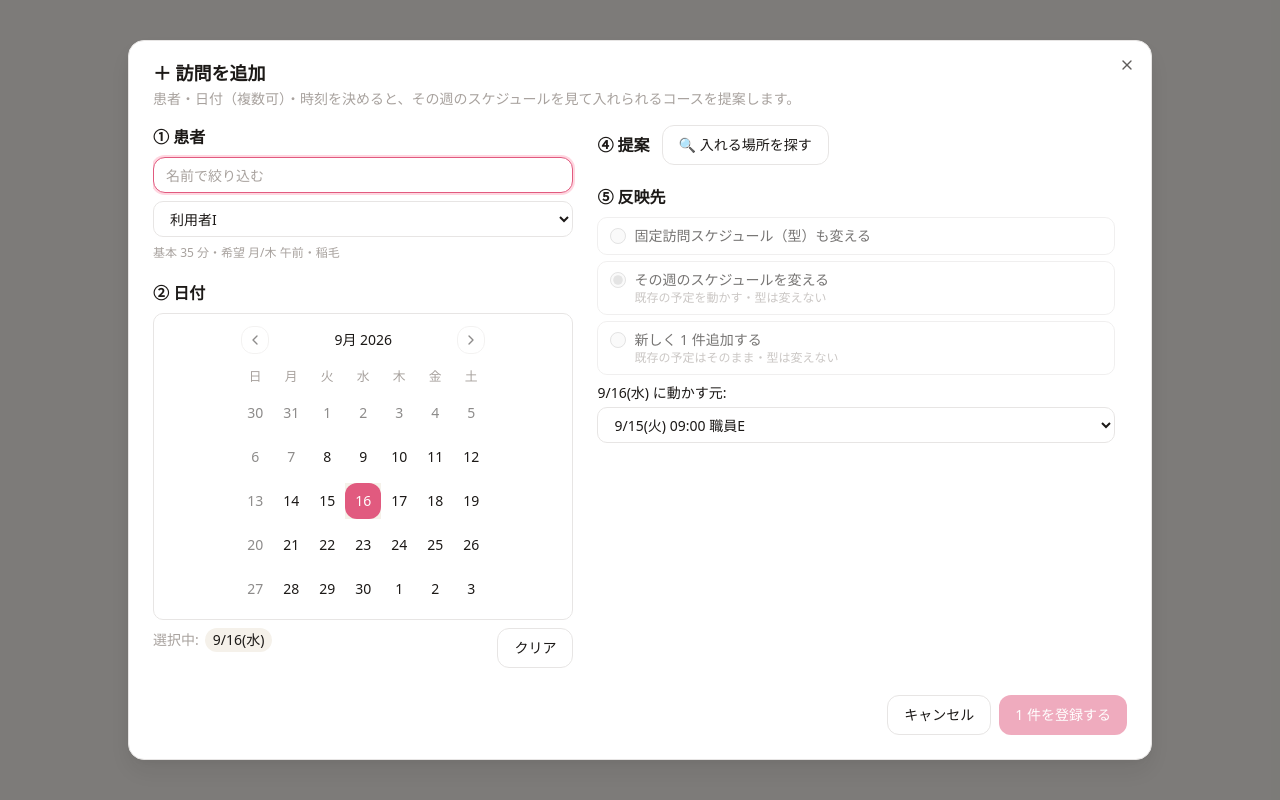
Test: AddVisitAnywhereDialog › H1 押した予定が動かせない (planned でない) ときは行エラーで登録を止める
The image size is (1280, 800).
Step 1. Click the button with test id "ava-propose" → (745, 145), box 662,125 -> 829,165
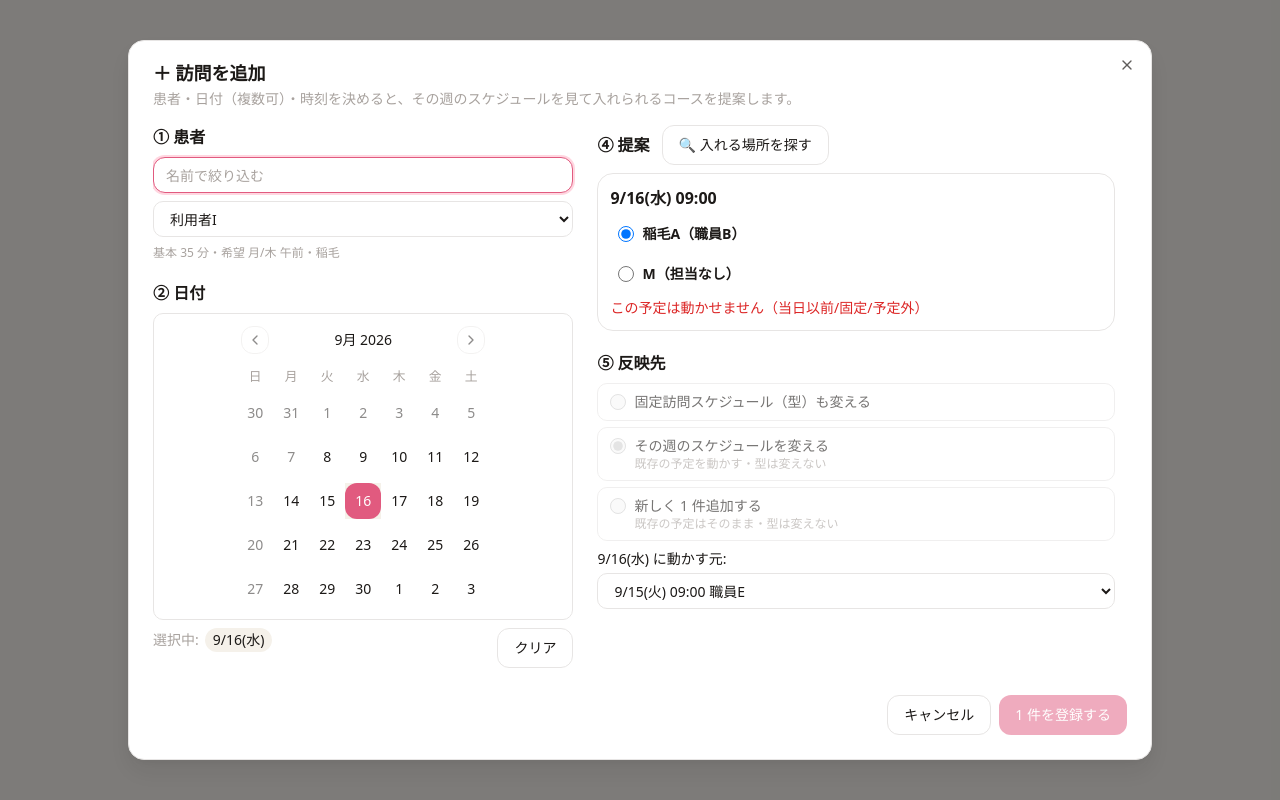
Check: the button with test id "ava-submit" is disabled, box 999,695 -> 1127,735
Check: the element with test id "ava-row-2026-09-16" is shown, box 597,173 -> 1115,331
Check: the text with test id "ava-row-error-2026-09-16" reads "この予定は動かせません（当日以前/固定/予定外）", box 610,298 -> 928,317
